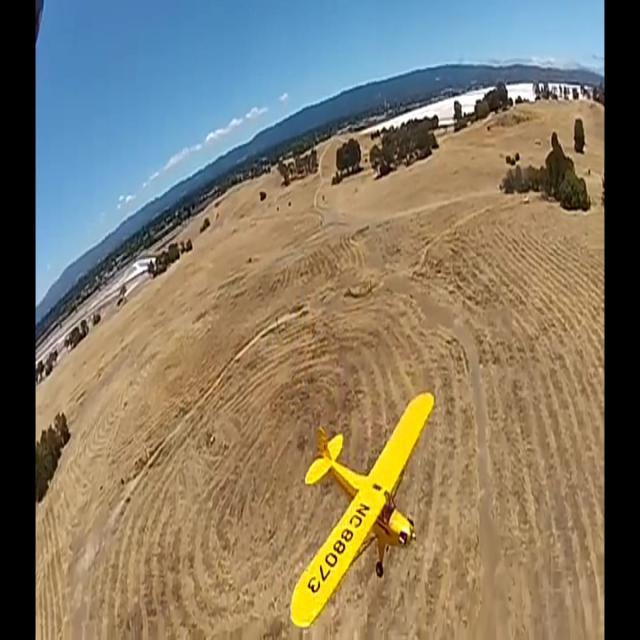iha: (289, 389, 434, 631)
